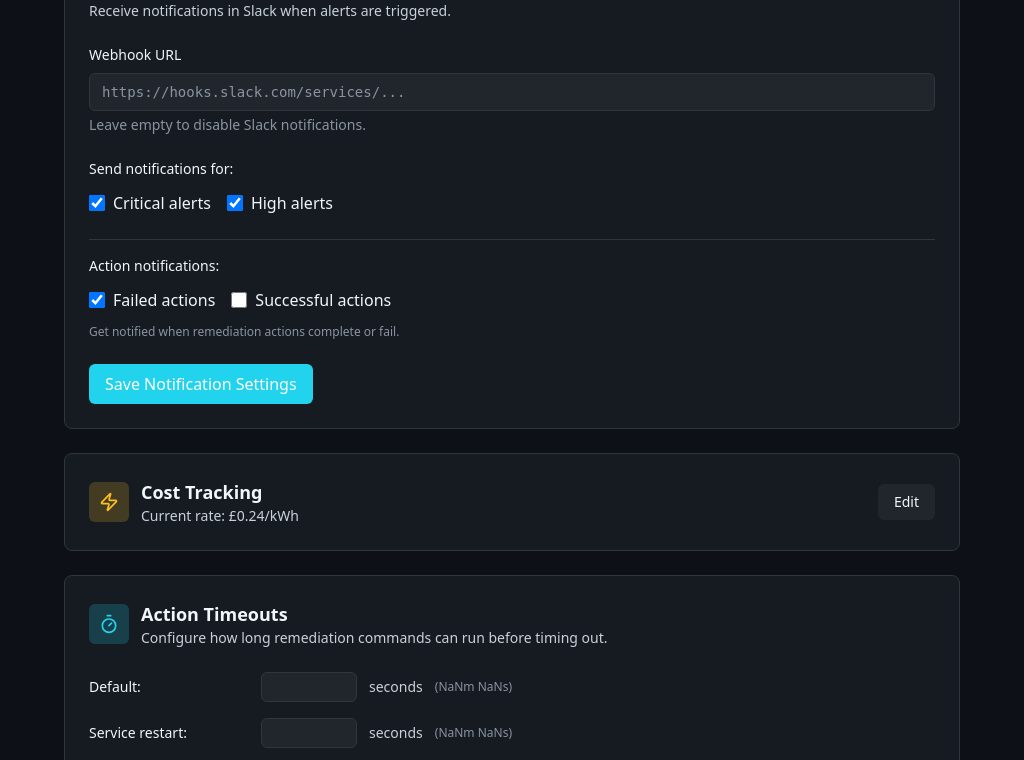
Scenario: Settings › Notifications card › shows success message after saving notifications
(page scrolled)
Click the button with test id "save-notifications-button" at (201, 384), box left=89, top=364, right=313, bottom=404
(page scrolled)
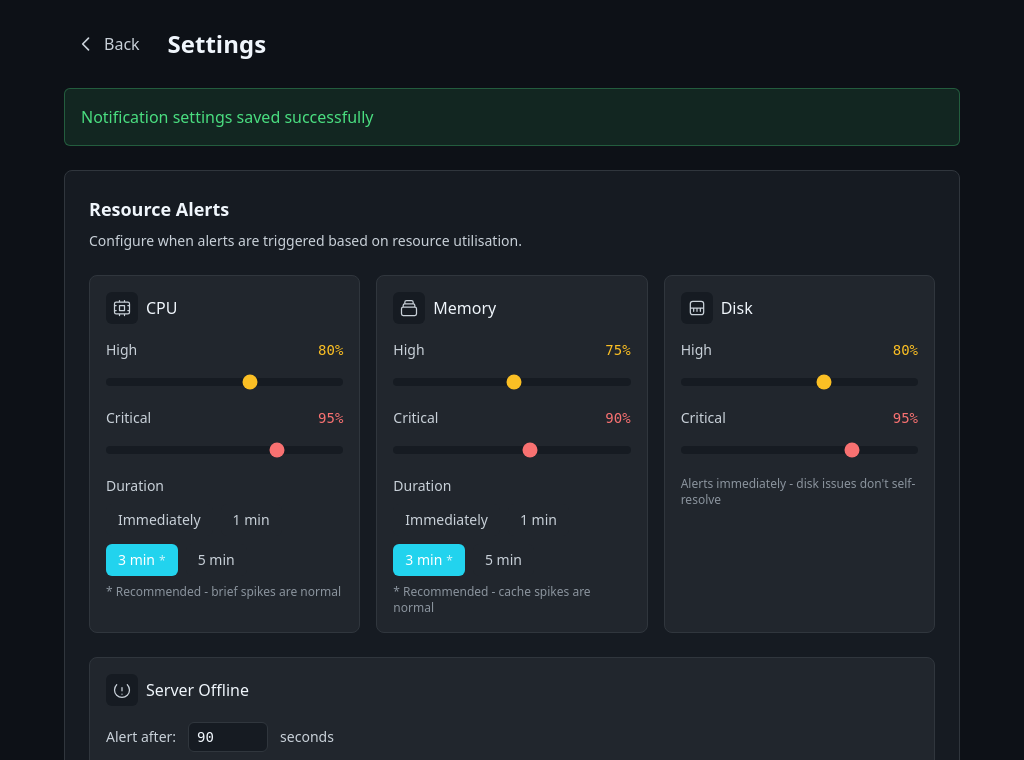
Check: the text "Notification settings saved successfully" is shown, box left=64, top=88, right=960, bottom=146
